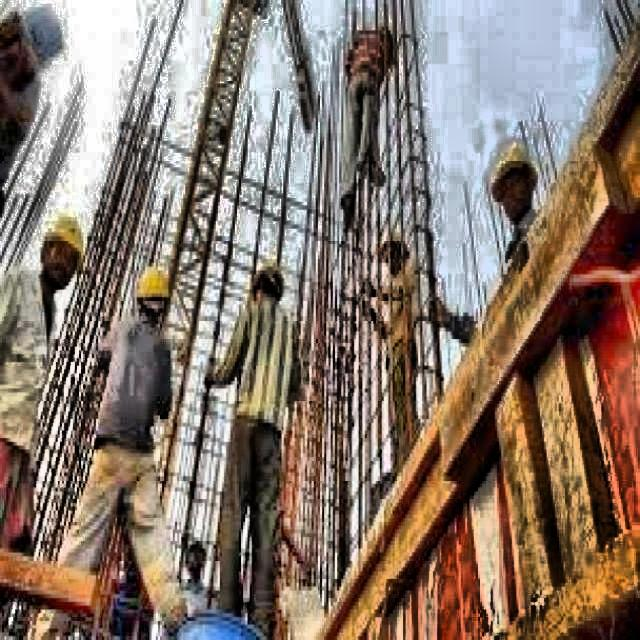bull_dozer/loader/grader: (153, 1, 322, 507)
person: (31, 267, 183, 640), (204, 262, 306, 640), (0, 213, 85, 551), (430, 141, 540, 344), (368, 232, 420, 469), (338, 23, 396, 229)
